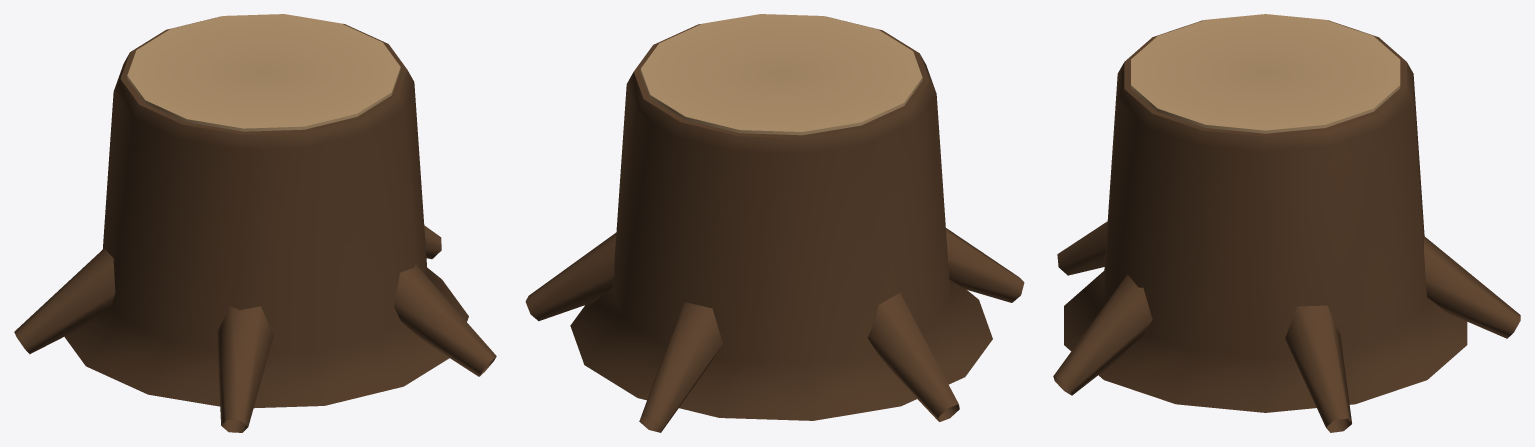
Rendered from furn_od_stump.glb.
3 renders of one model, left to right at view 1: azimuth 30°, elevation 25°; view 2: azimuth 150°, elevation 25°; view 3: azimuth 270°, elevation 25°, orthographic. The views are drawn at different scales.
Parts seen in each view (by area): view 1: furn_od_stump_main; view 2: furn_od_stump_main; view 3: furn_od_stump_main.
Boxes of the visible parts, <box> form: furn_od_stump_main: <box>14,14,496,432</box>; furn_od_stump_main: <box>525,14,1024,432</box>; furn_od_stump_main: <box>1053,14,1520,432</box>.
Bounding box in the file's own units: 0.7091 × 0.4194 × 0.6775.
